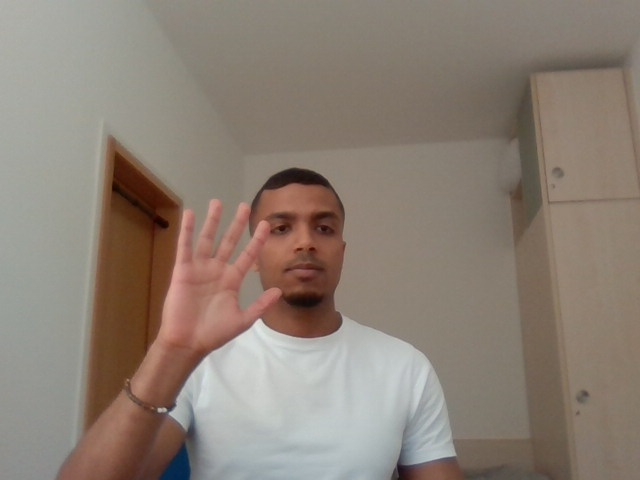hello: (162, 190, 286, 363)
